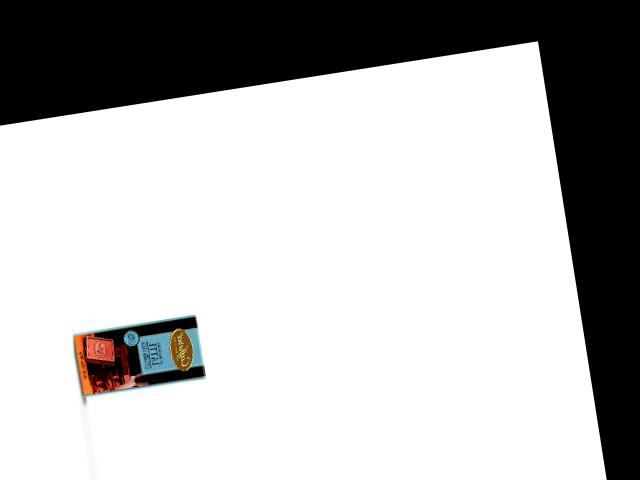chocolate: (71, 313, 207, 400)
